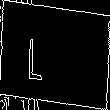L_N: (47, 28, 63, 82)
